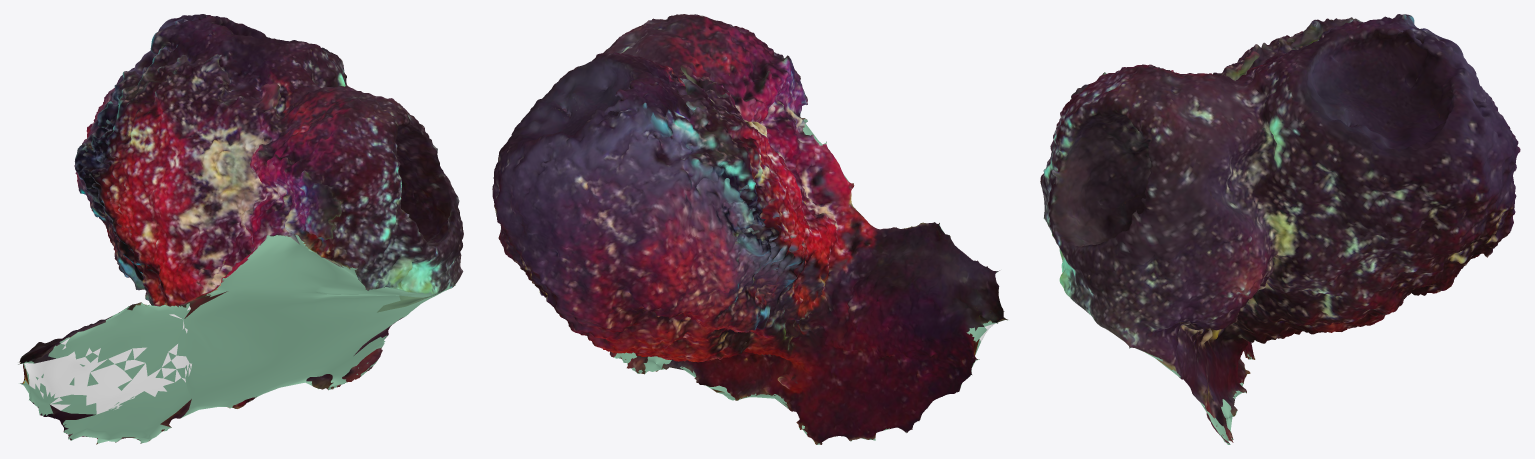
Rendered from coral3.glb.
3 renders of one model, left to right at view 1: azimuth 30°, elevation 25°; view 2: azimuth 150°, elevation 25°; view 3: azimuth 270°, elevation 25°, orthographic. The views are drawn at different scales.
Visible parts, largest first — view 1: Object_5, Object_3, Object_4, Object_2, Object_6; view 2: Object_5, Object_4, Object_6, Object_3; view 3: Object_4, Object_5, Object_6, Object_3.
Part boxes in pixels (box(x1,y1,x2,y2)): Object_5: box(18, 15, 462, 444); Object_3: box(19, 235, 455, 443); Object_4: box(74, 14, 463, 408); Object_2: box(24, 306, 191, 414); Object_6: box(77, 28, 459, 441); Object_5: box(567, 14, 1007, 444); Object_4: box(492, 17, 819, 400); Object_6: box(614, 19, 849, 440); Object_3: box(614, 119, 1007, 444); Object_4: box(1065, 28, 1520, 443); Object_5: box(1040, 14, 1442, 391); Object_6: box(1061, 16, 1394, 353); Object_3: box(1060, 282, 1252, 444).
Size of the model in its own units: 0.2787 by 0.2236 by 0.2424.
Materials: 2 (1 with a texture image).
